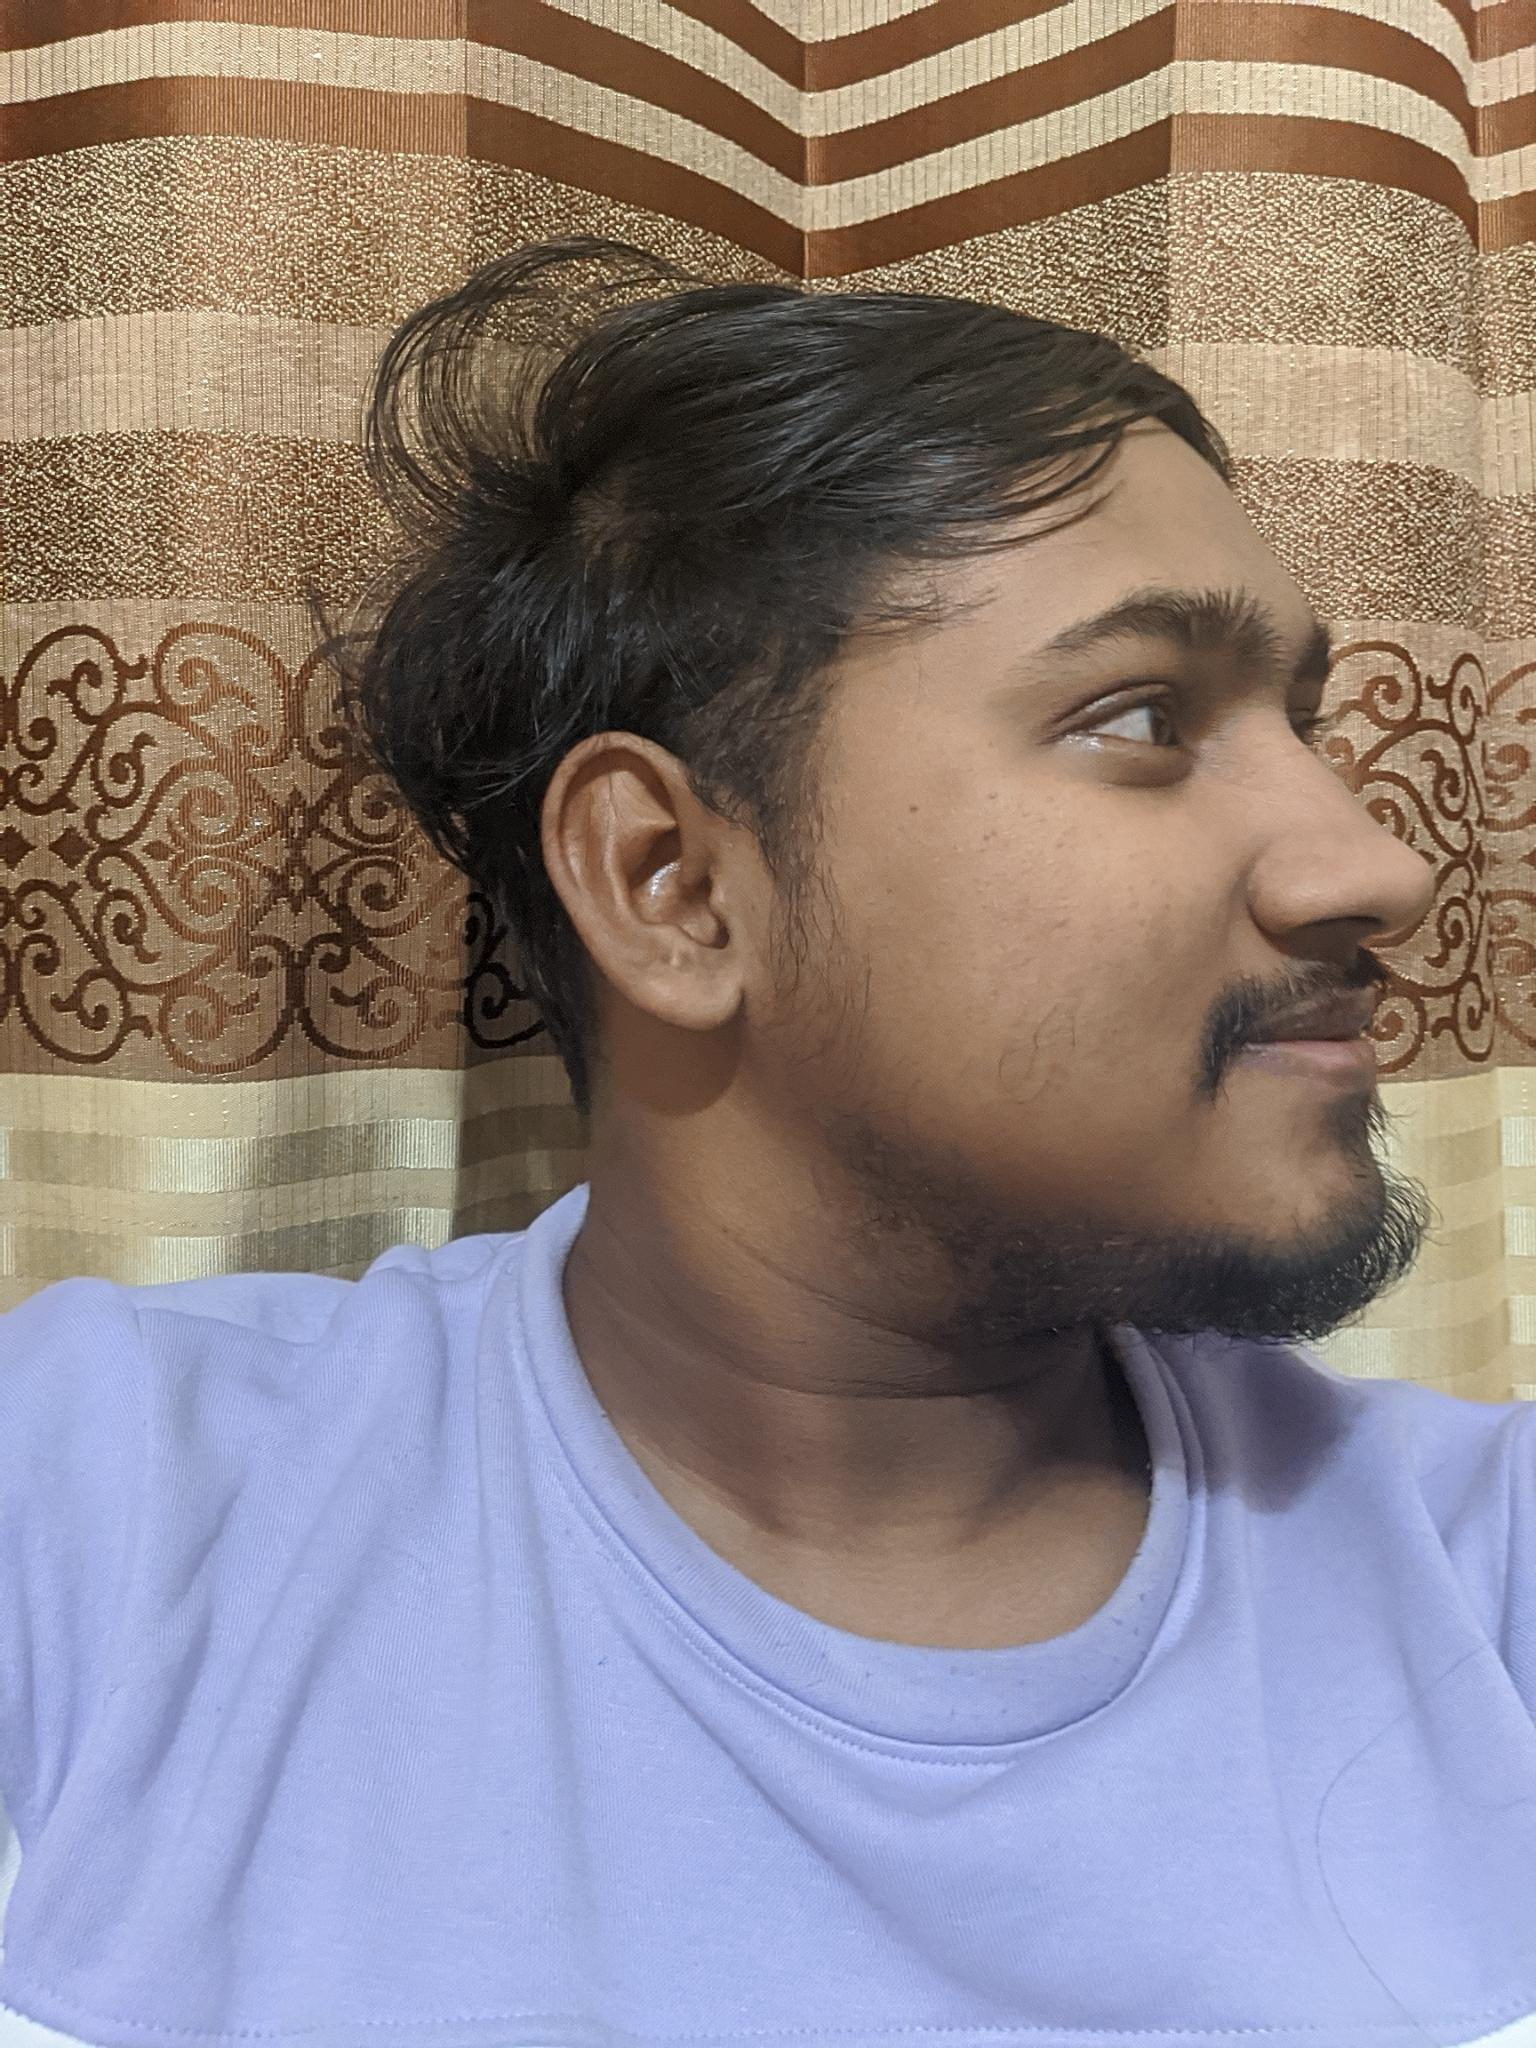Happy: (913, 513, 1489, 1322)
